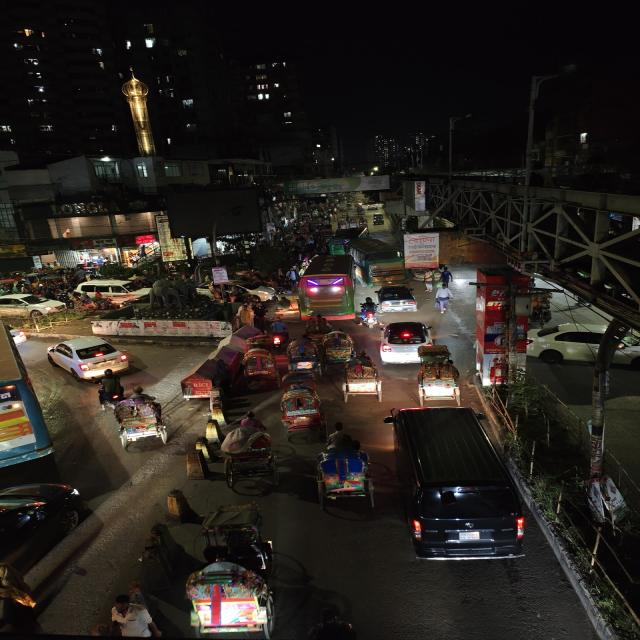bus: (0, 306, 44, 474), (293, 254, 356, 316), (326, 232, 351, 255)
car: (393, 404, 530, 568), (0, 478, 93, 618), (536, 325, 636, 369), (42, 336, 135, 382), (374, 318, 434, 365), (77, 278, 152, 303), (372, 284, 419, 314), (0, 292, 60, 314)
motorcycle: (95, 368, 124, 411), (355, 296, 381, 328), (266, 319, 293, 349)
pedestrian: (96, 586, 162, 640), (431, 284, 455, 315), (429, 263, 457, 289)
rickshaw: (145, 530, 286, 640), (308, 430, 383, 508), (222, 417, 281, 495), (109, 388, 175, 452), (411, 344, 466, 405), (276, 383, 327, 441), (178, 358, 233, 406), (338, 354, 388, 404), (241, 346, 278, 384), (286, 336, 321, 374), (322, 329, 355, 363)
truck: (349, 238, 410, 288)
